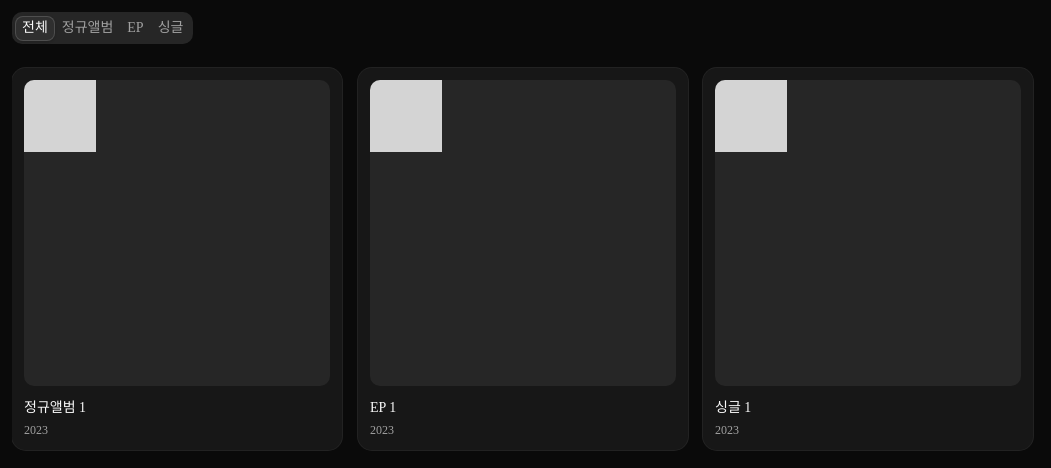
Test: AlbumGrid › 정규앨범 탭 선택 시 album_type=album이면서 트랙 수가 많은 앨범만 보인다
Click the tab "정규앨범": click(88, 28) [55,16,120,40]
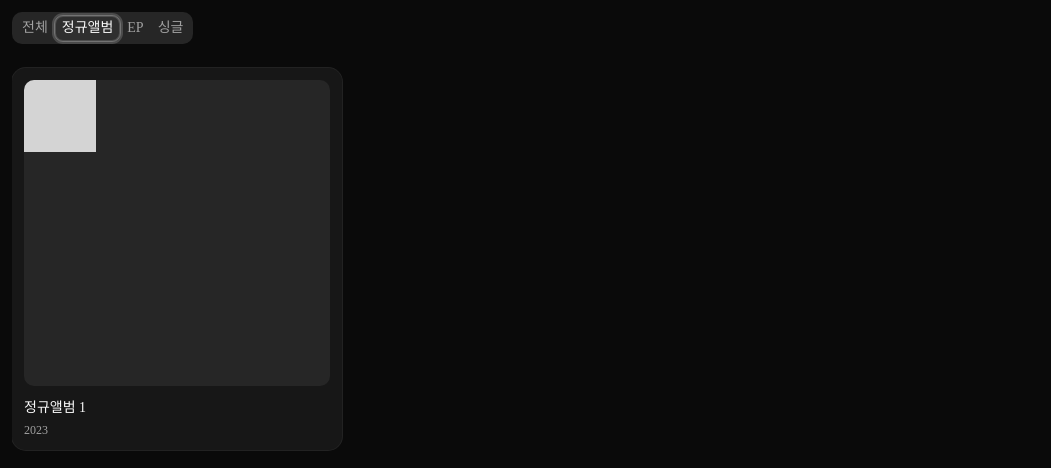
Expected: the text "정규앨범 1" is shown, [24,400,86,414]
Now the link "EP 1" is gone
Now the link "싱글 1" is gone
